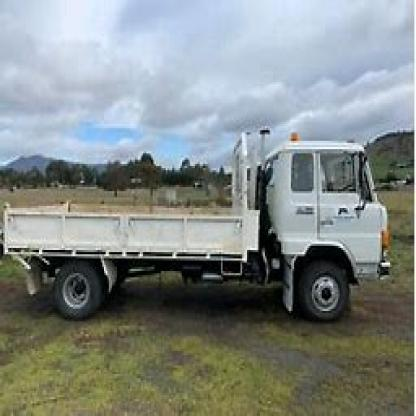dump_truck: (7, 113, 398, 326)
